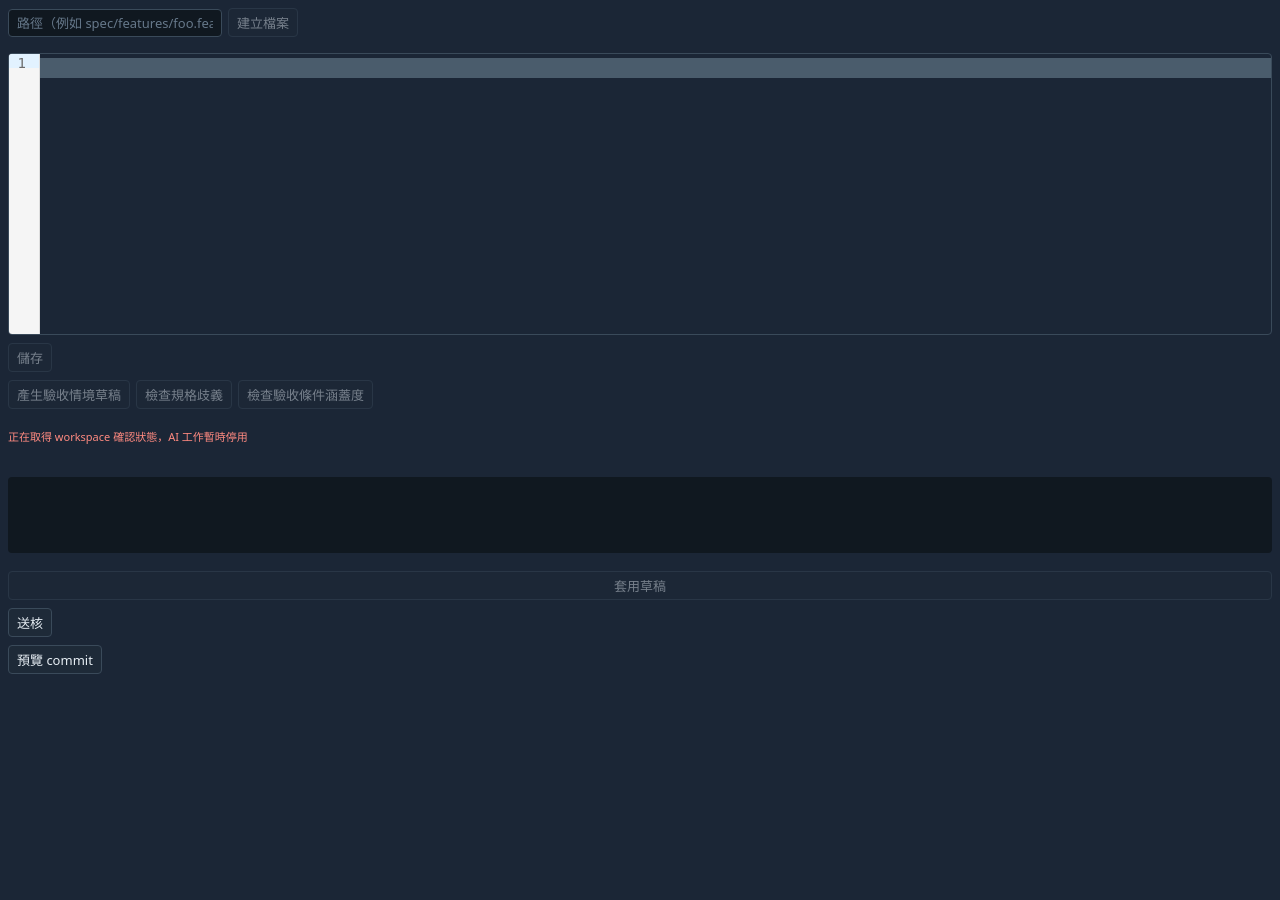
Test: SpecWorkspace submit prop 注入（A2-1） › 送核失敗→預覽 commit 失敗→再送核成功：送核錯誤清空、commit 錯誤保留（A2 原則 1／2，Spec 同型）
What coordinates should you click on to do the following:
click the button with test id "submit-for-approval"
I would click on:
 (30, 622)
Its box is x1=8 y1=608 x2=52 y2=637.
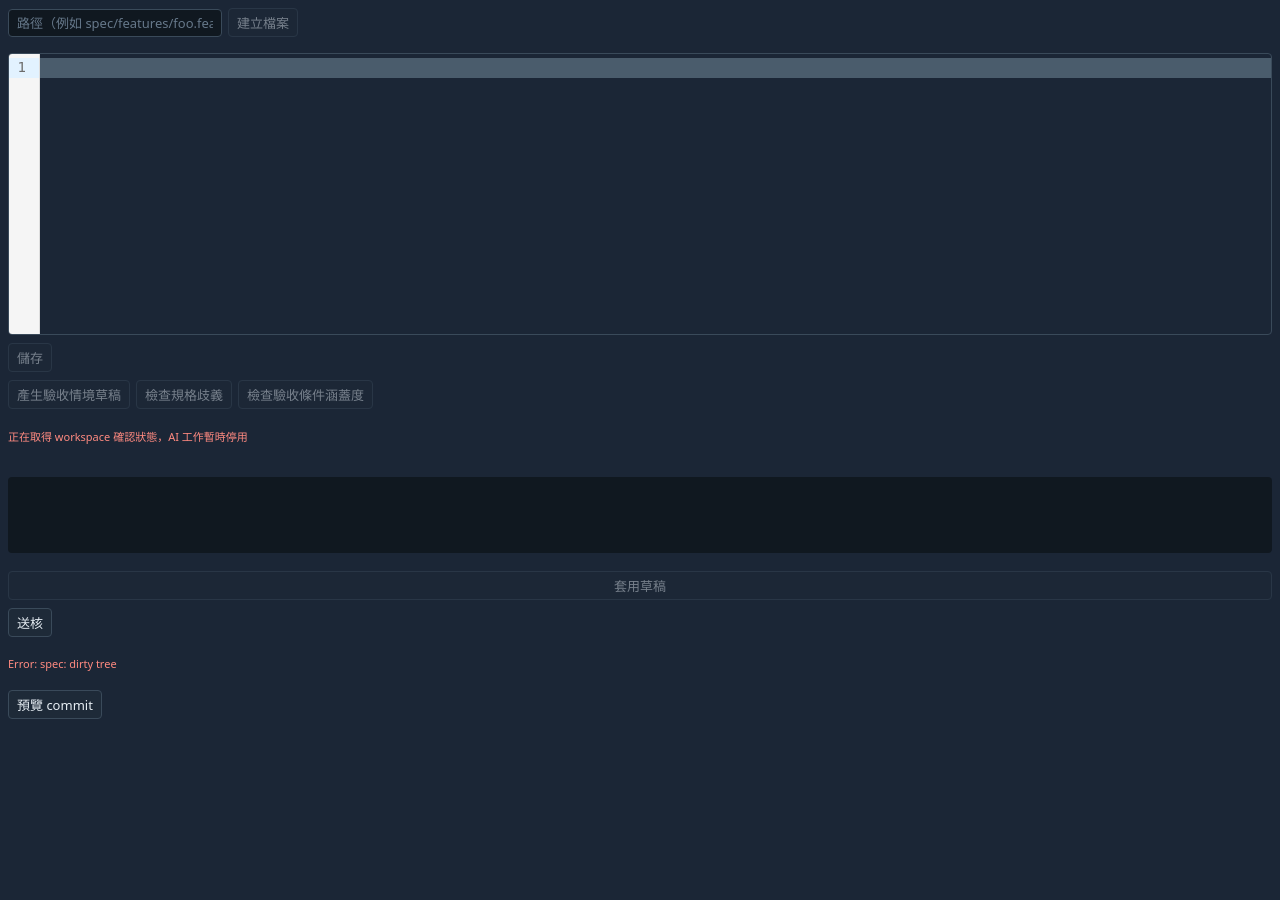
Expected: the text "spec: dirty tree" is shown, x1=8 y1=656 x2=117 y2=671
What coordinates should you click on to do the following:
click the button with test id "preview-commit"
I would click on:
 (55, 704)
Its box is x1=8 y1=690 x2=102 y2=719.
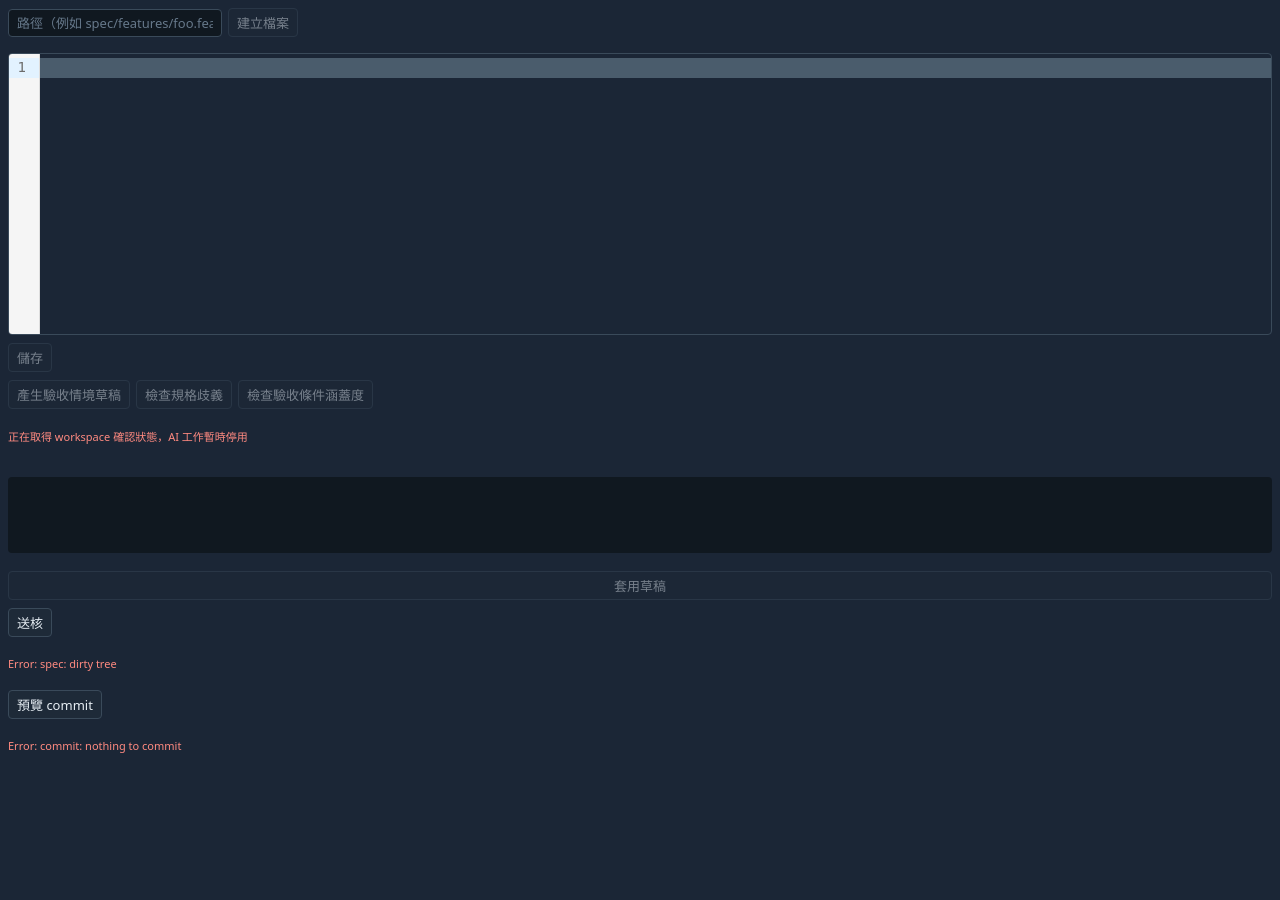
Expected: the text "commit: nothing to commit" is shown, x1=8 y1=738 x2=181 y2=753
What coordinates should you click on to do the following:
click the button with test id "submit-for-approval"
I would click on:
 (30, 622)
Its box is x1=8 y1=608 x2=52 y2=637.
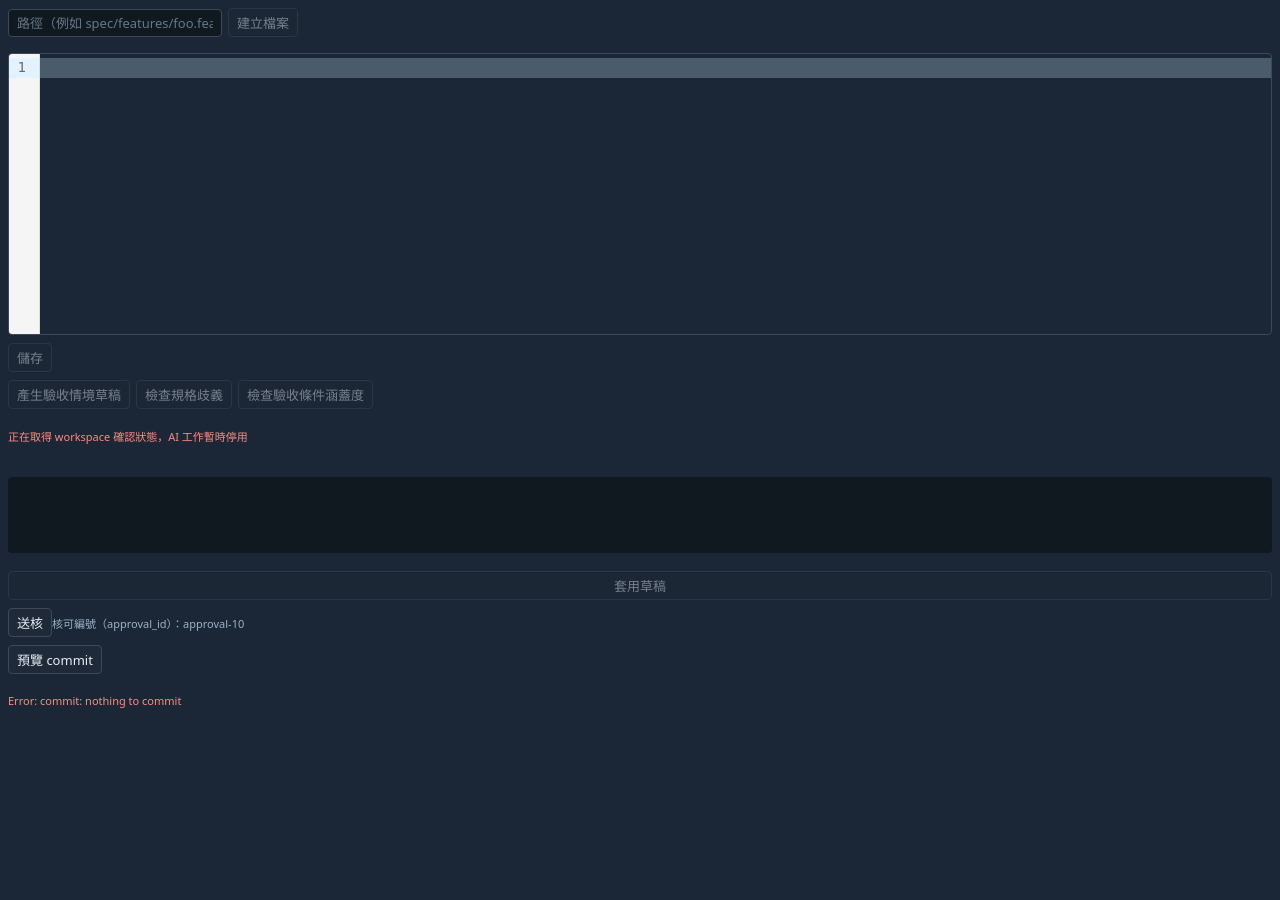
Expected: the text "commit: nothing to commit" is shown, x1=8 y1=693 x2=181 y2=708
Expected: the text "spec: dirty tree" is gone
